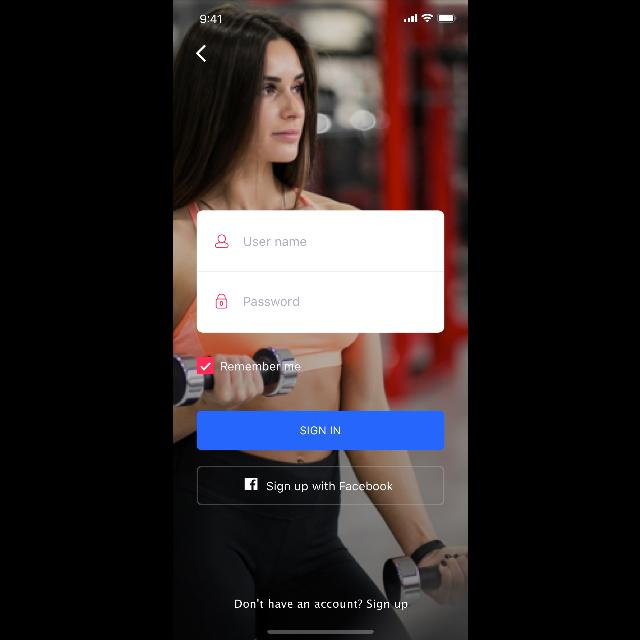backgroundimage: (172, 1, 468, 640)
checkbox: (195, 358, 212, 374)
icon: (214, 235, 228, 248), (215, 294, 227, 308), (195, 46, 205, 62)
input: (196, 210, 444, 272), (196, 272, 444, 332)
text: (235, 598, 408, 610), (220, 362, 300, 371), (243, 237, 305, 247), (244, 298, 298, 306)
textbutton: (196, 410, 444, 450), (196, 466, 444, 506)
uppertaskbar: (200, 14, 456, 24)
